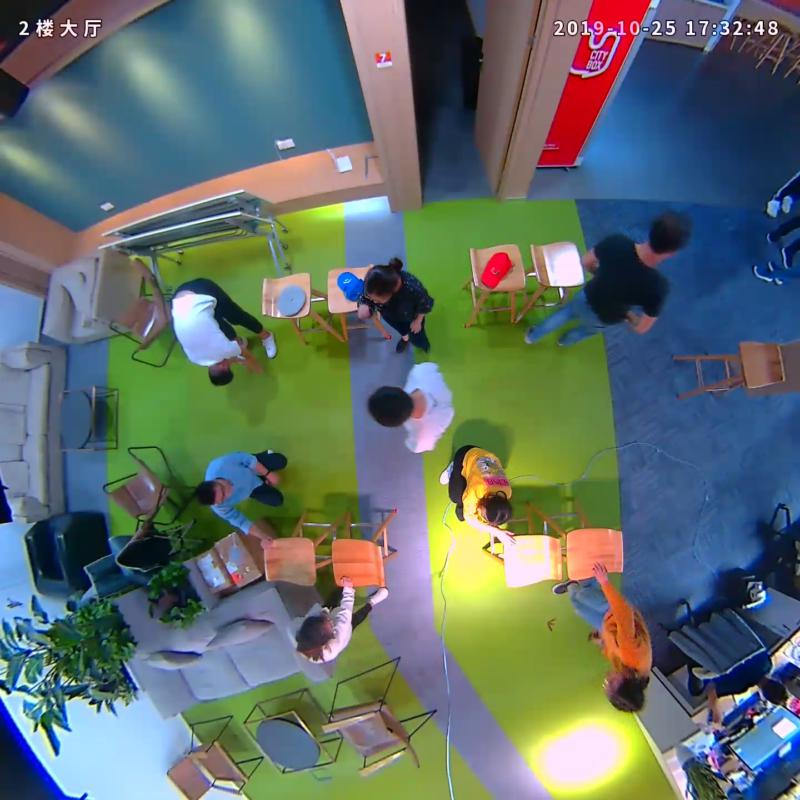head: (596, 666, 652, 719), (364, 380, 419, 431), (639, 210, 695, 259), (291, 612, 345, 662), (355, 258, 406, 308), (468, 489, 516, 532), (188, 476, 239, 510), (197, 355, 246, 390)
